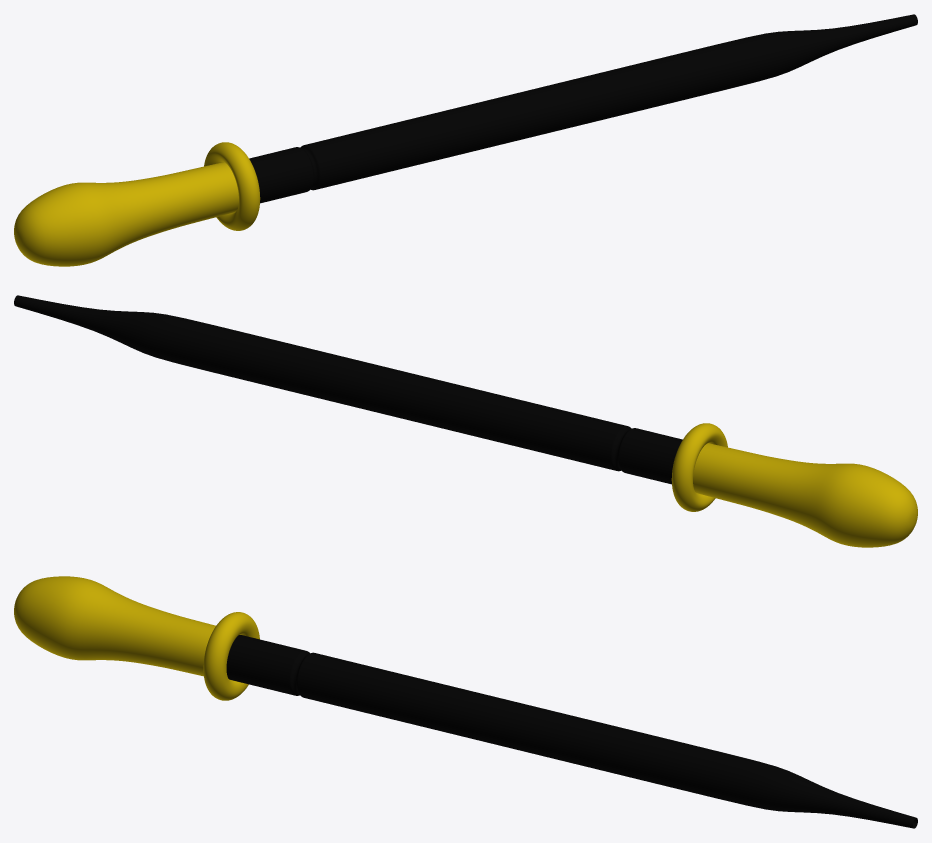
Rendered from pipette_with_substance2.fbx.
3 views of the same model, one above another, from view 1: azimuth 30°, elevation 25°; view 2: azimuth 150°, elevation 25°; view 3: azimuth 330°, elevation 25° (orthographic).
Visible parts, largest first — view 1: Pasteur Pipette; view 2: Pasteur Pipette; view 3: Pasteur Pipette.
Boxes of the visible parts, x1=… form: Pasteur Pipette: x1=14, y1=14, x2=917, y2=266; Pasteur Pipette: x1=14, y1=295, x2=917, y2=547; Pasteur Pipette: x1=14, y1=576, x2=917, y2=828.
Bounding box in the file's own units: 135 × 11.76 × 11.76.
